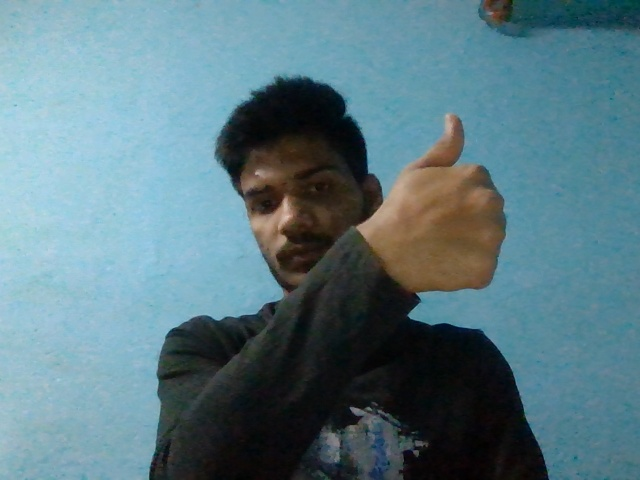ThumbsUp: (376, 113, 508, 291)
